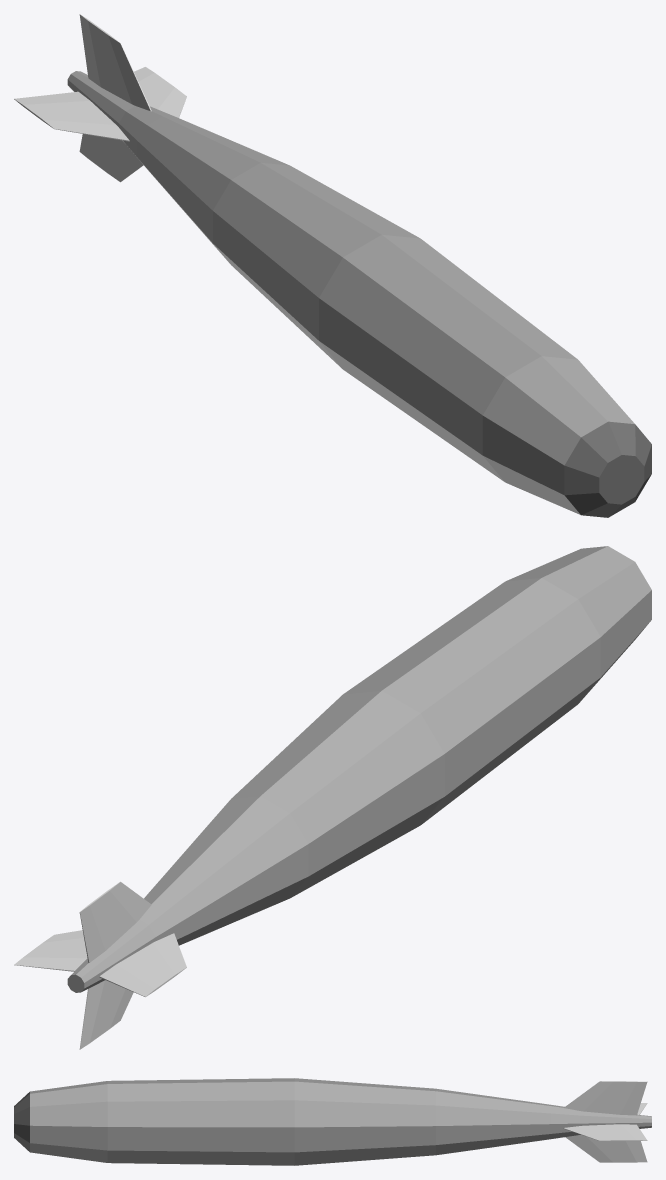
File: SM_bomb03.fbx
3 views of the same model, one above another, from view 1: azimuth 30°, elevation 25°; view 2: azimuth 150°, elevation 25°; view 3: azimuth 270°, elevation 25° (orthographic). The views are drawn at different scales.
Parts seen in each view (by area): view 1: Cylinder; view 2: Cylinder; view 3: Cylinder.
Part boxes in pixels (x1=…): Cylinder: x1=14, y1=14, x2=651, y2=517; Cylinder: x1=14, y1=546, x2=651, y2=1049; Cylinder: x1=14, y1=1078, x2=651, y2=1165.
Bounding box in the file's own units: 26.81 × 26.81 × 191.
